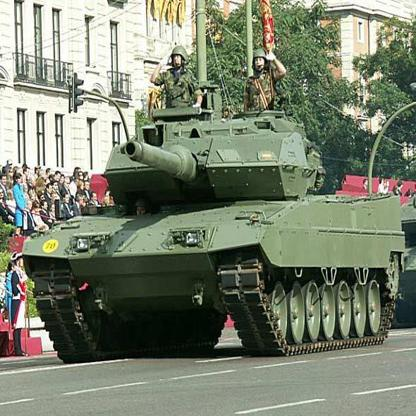Tank: (19, 91, 414, 364)
